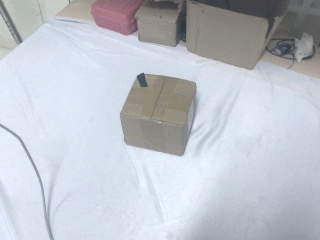box: (186, 1, 293, 70), (120, 72, 196, 155), (136, 1, 186, 47), (87, 1, 138, 36)
